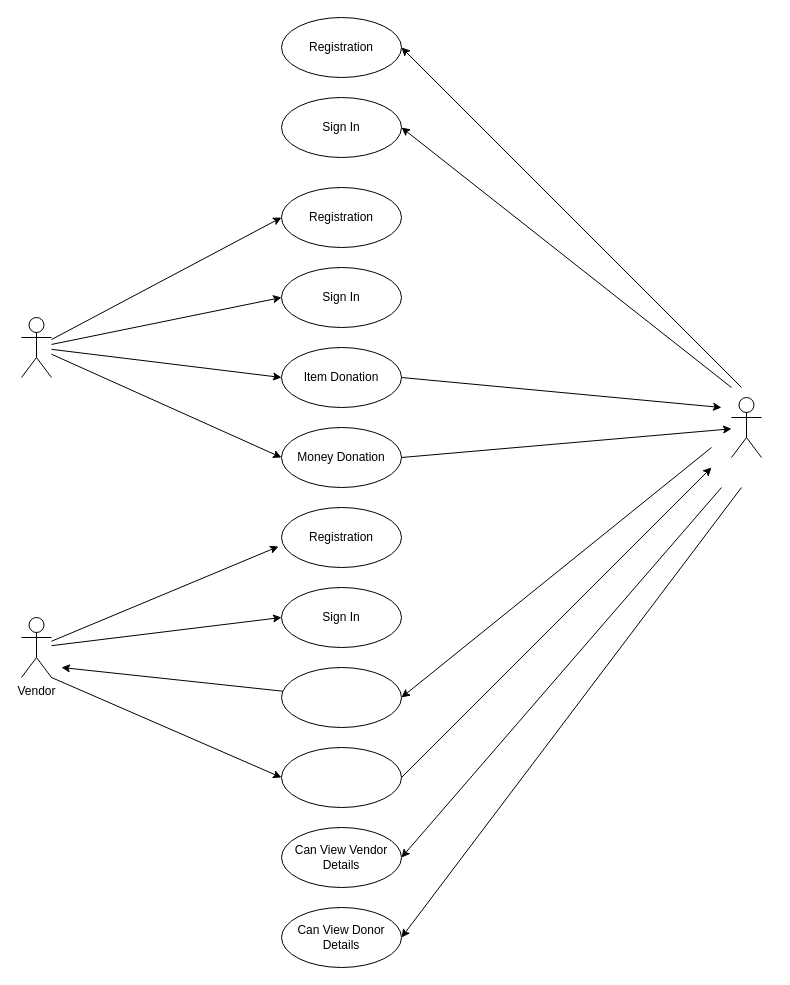
Image size: 790x985. Some labels were removed from this diagram. The shapes that lost their labels are listed below. From the top down, each one's box as (x1, y1, x2, y2) in pixels, then its label:
(20, 316, 52, 378): Donor
(730, 396, 762, 458): Employee
(280, 666, 402, 728): Bank Transaction
(280, 746, 402, 808): Bidding
